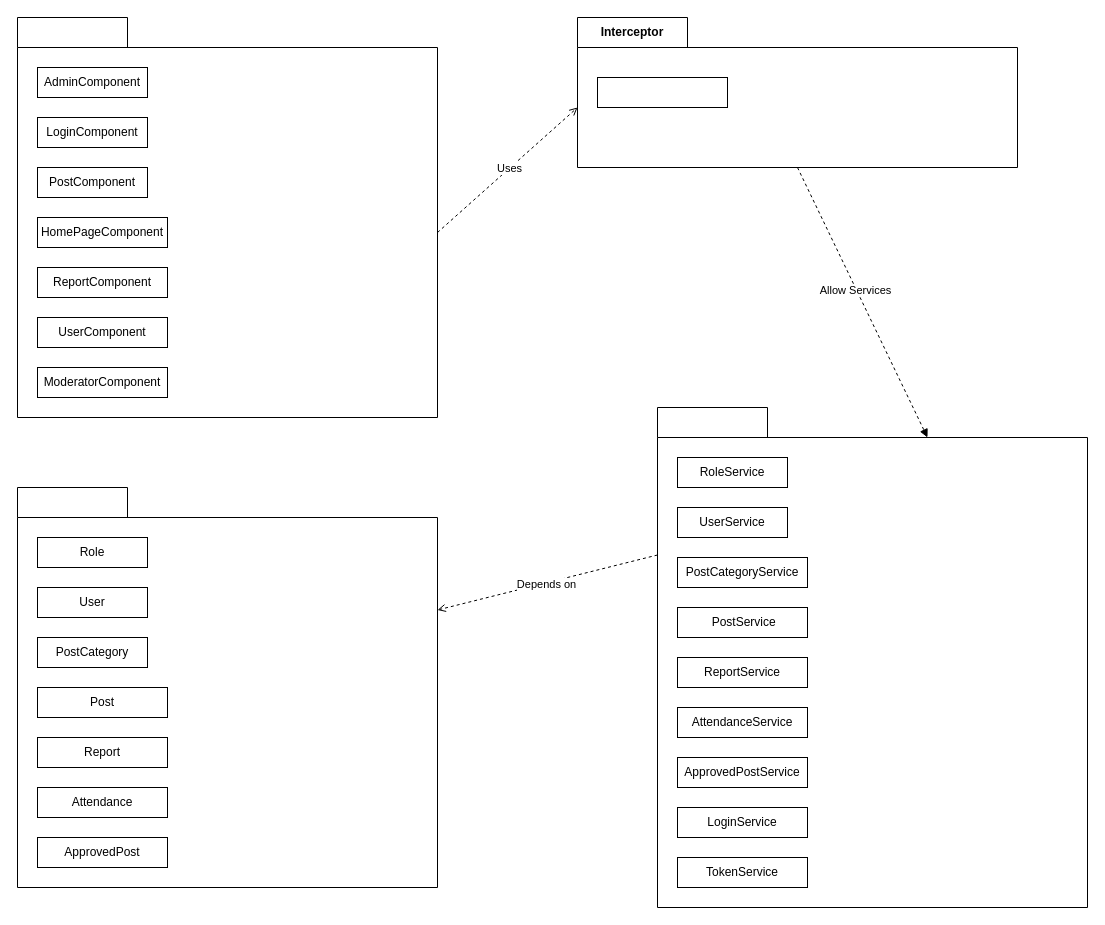
The diagram is 1105 pixels wide and 925 high, and some of its shapes have lost their labels. Each missing label, with the box of its shape:
Components: (16, 16, 438, 418)
Models: (16, 486, 438, 888)
Services: (656, 406, 1088, 908)
TokenInterceptor: (596, 76, 728, 108)
